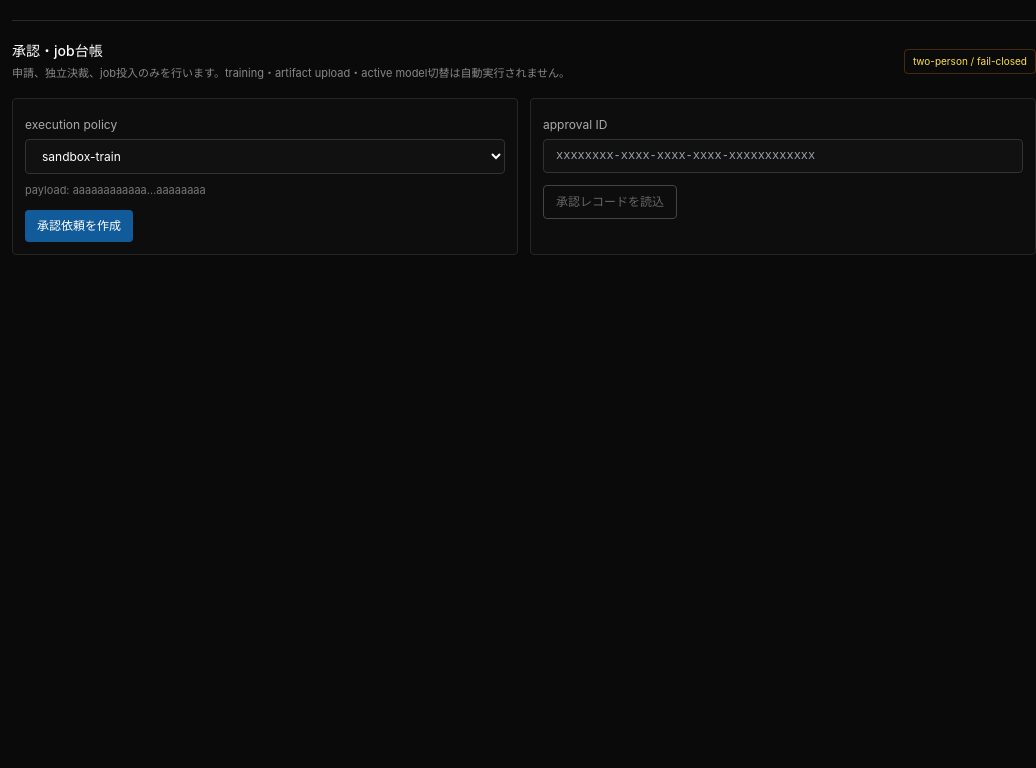
Scenario: model retrain approval panel › creates only a pending approval request from the exact preview payload
The image size is (1036, 768).
Click the button "承認依頼を作成": (79, 226) [25,210,133,242]
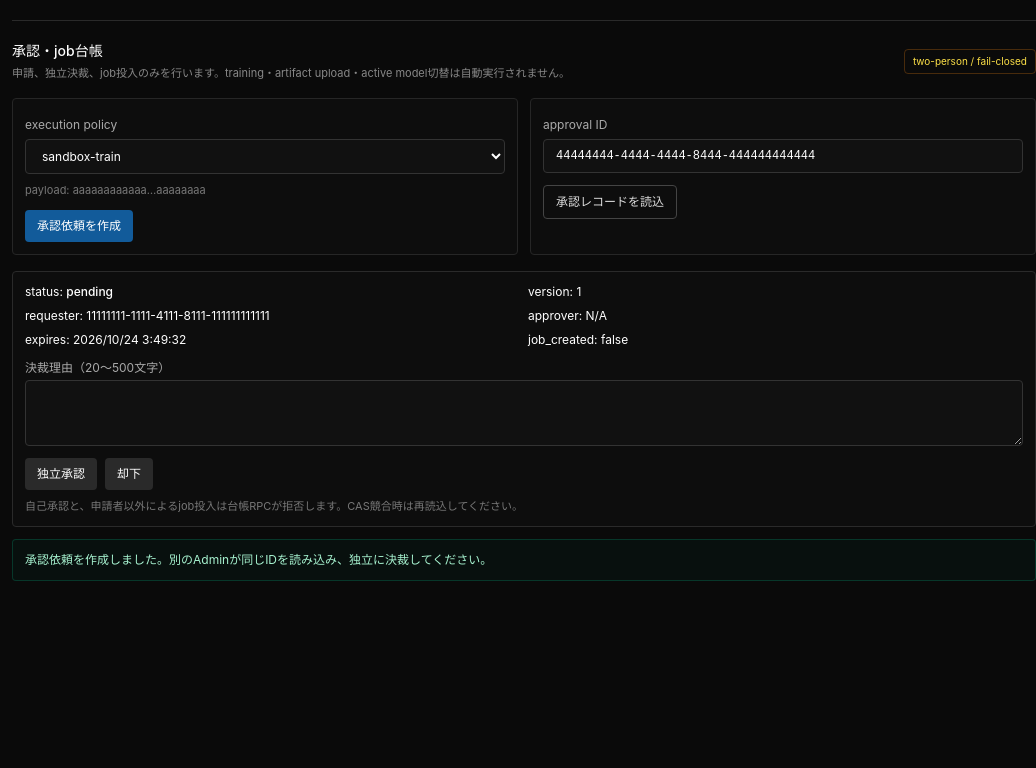
Check: the text "承認依頼を作成しました。別のAdminが同じIDを読み込み、独立に決裁してください。" is shown, box [12,539,1035,581]
